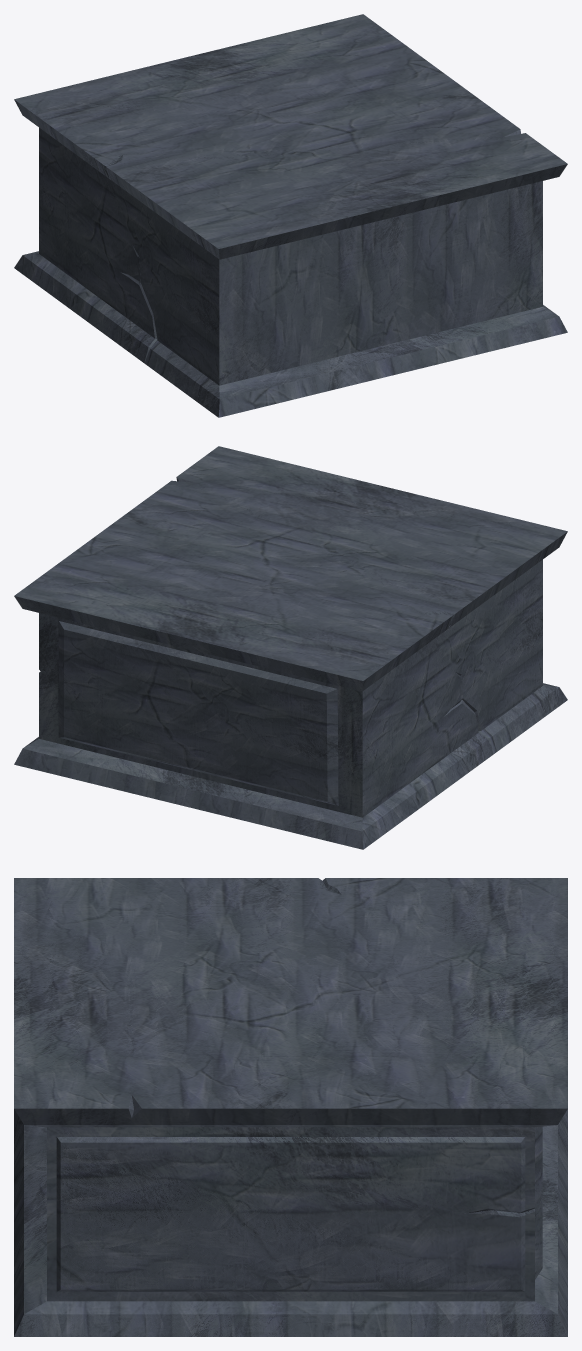
The model's file is AvatarPedestal01.glb.
3 renders of one model, top to bottom at view 1: azimuth 30°, elevation 25°; view 2: azimuth 150°, elevation 25°; view 3: azimuth 270°, elevation 25°, orthographic. The views are drawn at different scales.
Visible parts, largest first — view 1: AvatarPedestal01; view 2: AvatarPedestal01; view 3: AvatarPedestal01.
Boxes of the visible parts, <box> form: AvatarPedestal01: <box>14,14,567,417</box>; AvatarPedestal01: <box>14,446,567,849</box>; AvatarPedestal01: <box>14,878,567,1336</box>.
Size of the model in its own units: 5.25 by 2.42 by 5.33.
Materials: 1 (1 with a texture image).
